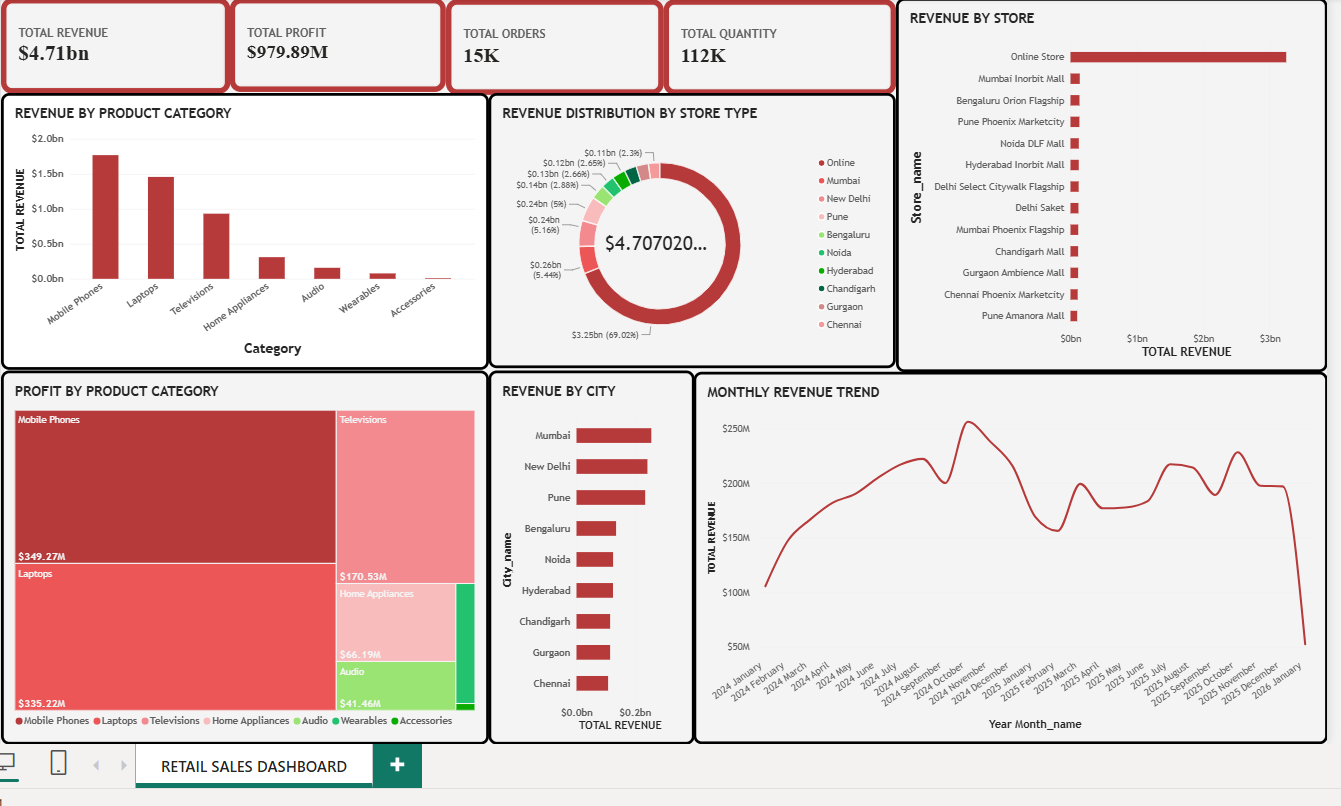

The dashboard page shown, as its layout file describes it:
{"tool":"powerbi","page":{"name":"RETAIL SALES DASHBOARD","canvas":[1920,1080],"ordinal":0},"visuals":[{"type":"cardVisual","fields":{"Data":["Fact Sales.TOTAL REVENUE"]},"box":[0,0,331.6,138.4],"z":0},{"type":"cardVisual","fields":{"Data":["Fact Sales.TOTAL PROFIT"]},"box":[331.6,0,312.6,136],"z":1},{"type":"cardVisual","fields":{"Data":["Fact Sales.TOTAL ORDERS"]},"box":[644.2,2.4,314.9,138.4],"z":2},{"type":"cardVisual","fields":{"Data":["Fact Sales.TOTAL QUANTITY"]},"box":[959.1,2.4,336.4,138.4],"z":3},{"type":"clusteredColumnChart","title":"REVENUE BY PRODUCT CATEGORY ","fields":{"Category":["Dim Product.Category"],"Y":["Fact Sales.TOTAL REVENUE"]},"box":[0,138.4,706.2,400.8],"z":4},{"type":"treemap","title":"PROFIT BY PRODUCT CATEGORY","fields":{"Group":["Dim Product.Category"],"Values":["Fact Sales.TOTAL PROFIT"]},"box":[0,539.2,706.2,541.6],"z":5},{"type":"clusteredBarChart","title":"REVENUE BY STORE","fields":{"Category":["Dim Store.Store_name"],"Y":["Fact Sales.TOTAL REVENUE"]},"box":[1295.6,0,625.1,541.6],"z":6},{"type":"lineChart","title":"MONTHLY REVENUE TREND","fields":{"Category":["Dim Date.Year","Dim Date.Month_name"],"Y":["Fact Sales.TOTAL REVENUE"]},"box":[1002.1,541.6,918.6,539.2],"z":7},{"type":"donutChart","title":"REVENUE DISTRIBUTION BY STORE TYPE","fields":{"Category":["Dim City.City_name"],"Y":["Fact Sales.TOTAL REVENUE"]},"box":[706.2,138.4,589.3,398.4],"z":8},{"type":"clusteredBarChart","title":"REVENUE BY CITY","fields":{"Category":["Dim City.City_name"],"Y":["Fact Sales.TOTAL REVENUE"]},"box":[706.2,539.2,298.2,541.6],"z":9}]}

Visuals, with their boxes in screenshot pixels (x1, y1, x2, y2):
cardVisual - Fact Sales.TOTAL REVENUE: l=0, t=0, r=228, b=92
cardVisual - Fact Sales.TOTAL PROFIT: l=228, t=0, r=444, b=90
cardVisual - Fact Sales.TOTAL ORDERS: l=444, t=0, r=661, b=93
cardVisual - Fact Sales.TOTAL QUANTITY: l=661, t=0, r=892, b=93
"REVENUE BY PRODUCT CATEGORY " clusteredColumnChart: l=0, t=92, r=486, b=368
"PROFIT BY PRODUCT CATEGORY" treemap: l=0, t=368, r=486, b=741
"REVENUE BY STORE" clusteredBarChart: l=892, t=0, r=1323, b=370
"MONTHLY REVENUE TREND" lineChart: l=690, t=370, r=1323, b=741
"REVENUE DISTRIBUTION BY STORE TYPE" donutChart: l=486, t=92, r=892, b=366
"REVENUE BY CITY" clusteredBarChart: l=486, t=368, r=692, b=741
